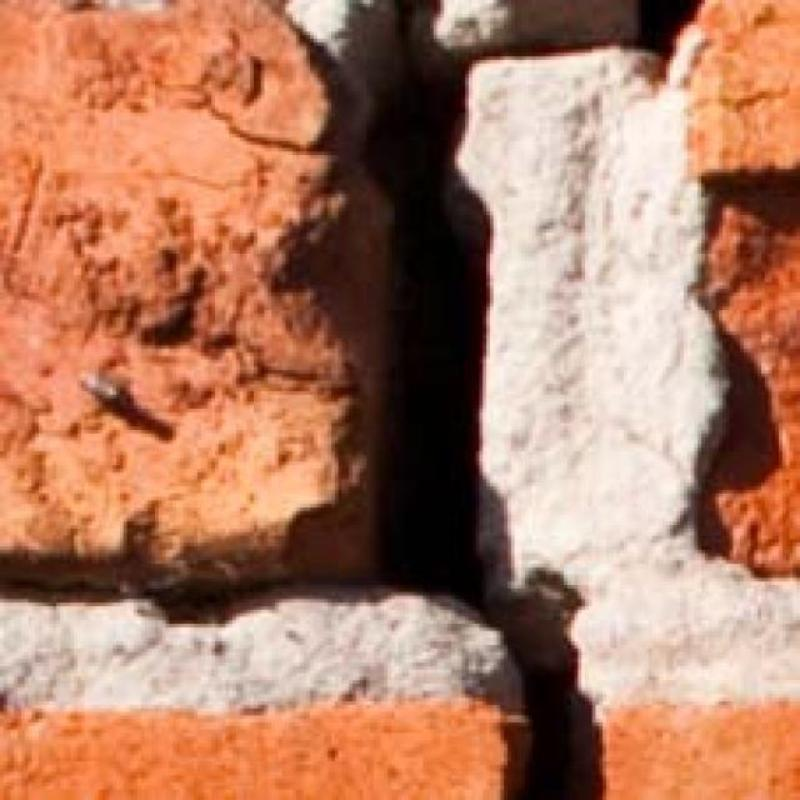crack: (367, 0, 598, 800)
